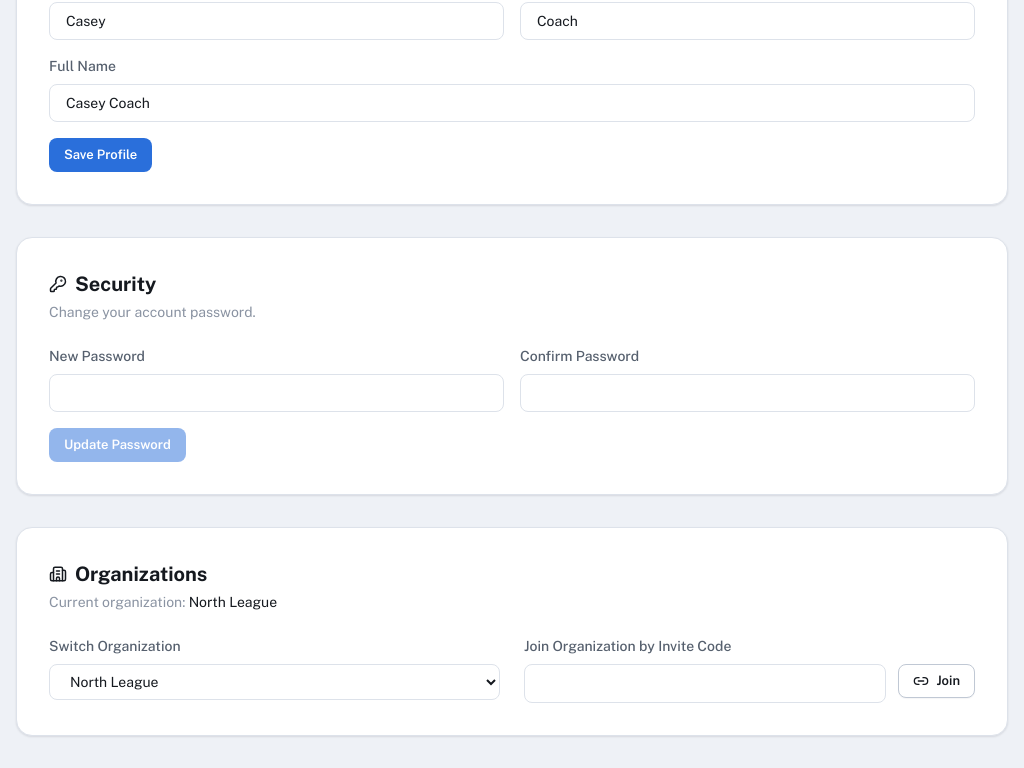
Scenario: AccountSettingsPage › announces invite code validation errors and links them to the input
The width and height of the screenshot is (1024, 768).
(page scrolled)
What coordinates should you click on to do the following:
click the button "Join"
I would click on:
 (937, 682)
Its box is [898,664,975,698].
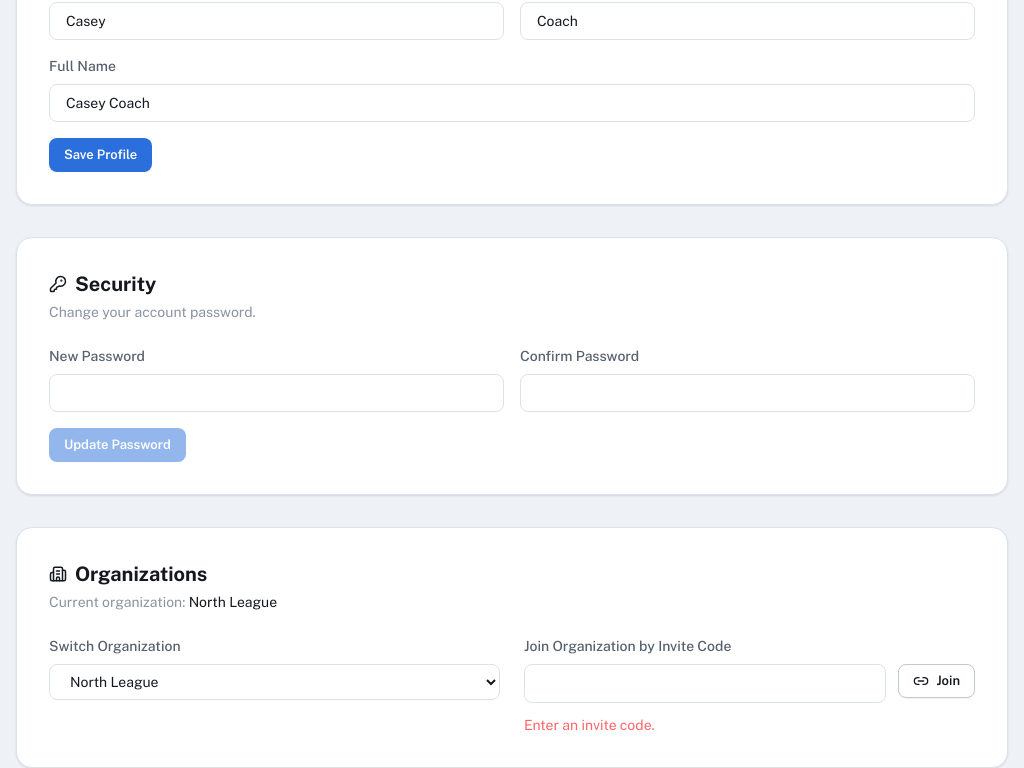
Check: the message reads "Enter an invite code.", box [524,717,655,733]
